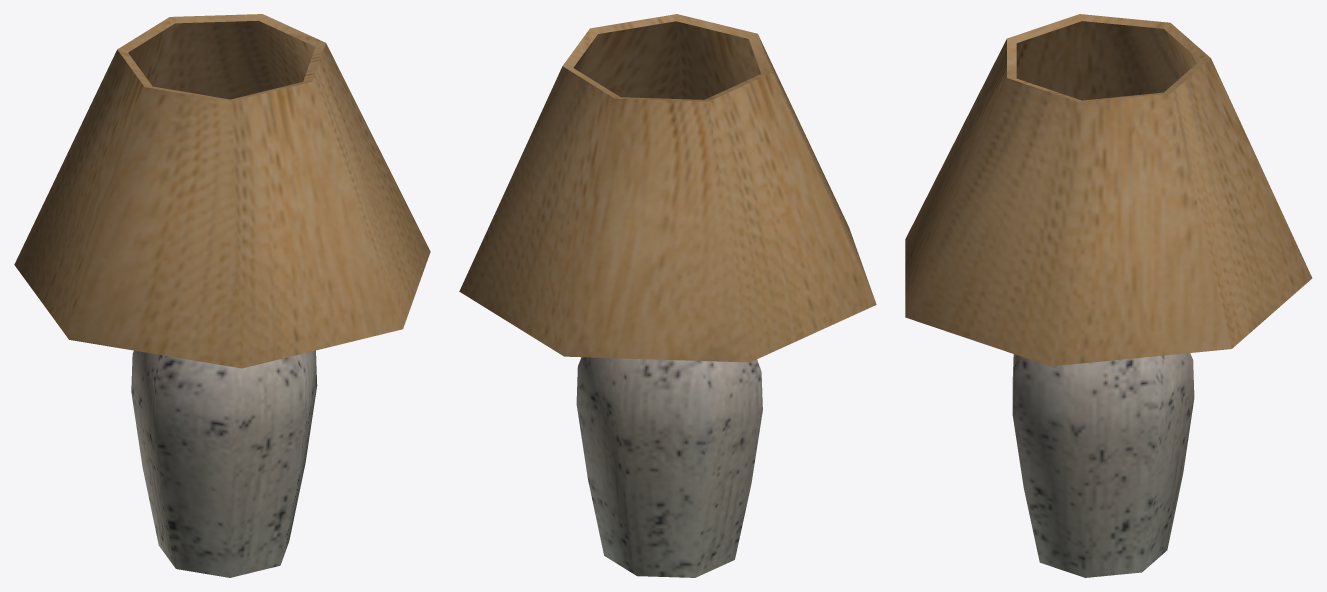
The model's file is Desk_lamp_01-col.glb.
The picture shows the model from 3 angles, left to right: view 1: azimuth 30°, elevation 25°; view 2: azimuth 150°, elevation 25°; view 3: azimuth 270°, elevation 25°; orthographic projection.
Visible parts, largest first — view 1: Desk_lamp_01-col; view 2: Desk_lamp_01-col; view 3: Desk_lamp_01-col.
Boxes of the visible parts, x1,y1,x2,y2 form: Desk_lamp_01-col: [14, 14, 430, 577]; Desk_lamp_01-col: [459, 14, 876, 577]; Desk_lamp_01-col: [905, 14, 1312, 577].
Bounding box in the file's own units: 1.4 × 1.82 × 1.36.
Materials: 1 (1 with a texture image).
